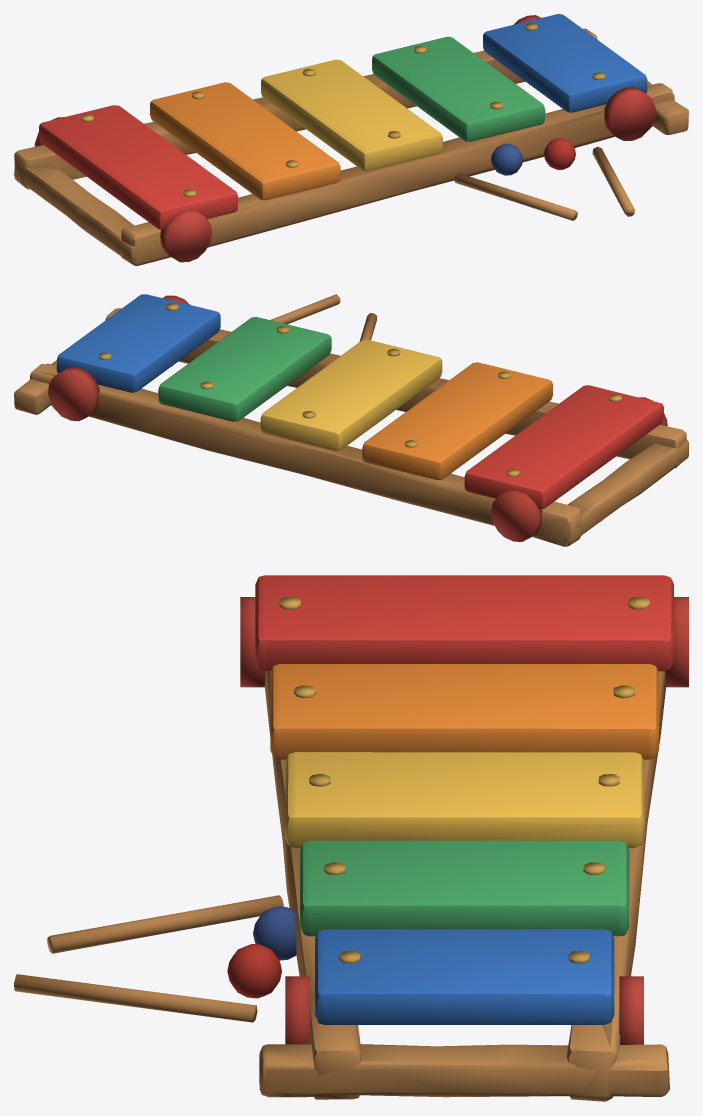
Rendered from den_xylophone_lod1.glb.
3 views of the same model, one above another, from view 1: azimuth 30°, elevation 25°; view 2: azimuth 150°, elevation 25°; view 3: azimuth 270°, elevation 25° (orthographic). The views are drawn at different scales.
Parts seen in each view (by area): view 1: den_xylophone.001; view 2: den_xylophone.001; view 3: den_xylophone.001.
Part boxes in pixels (x1=…): den_xylophone.001: x1=14, y1=14, x2=688, y2=265; den_xylophone.001: x1=14, y1=294, x2=688, y2=546; den_xylophone.001: x1=14, y1=575, x2=688, y2=1101.
Bounding box in the file's own units: 22.06 × 2.13 × 13.54.
